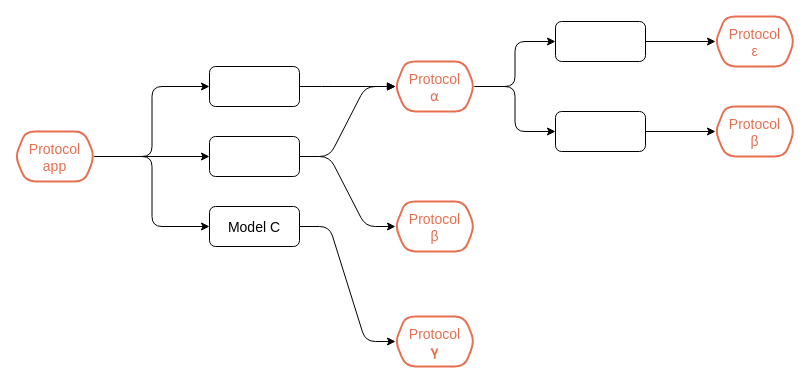
This 809x383 diagram has some shape labels left out. Each missing label, with the centre of its shape:
"Model A" belongs at (x=254, y=86).
"Model B" belongs at (x=254, y=156).
"Model D" belongs at (x=600, y=41).
"Model E" belongs at (x=600, y=131).
